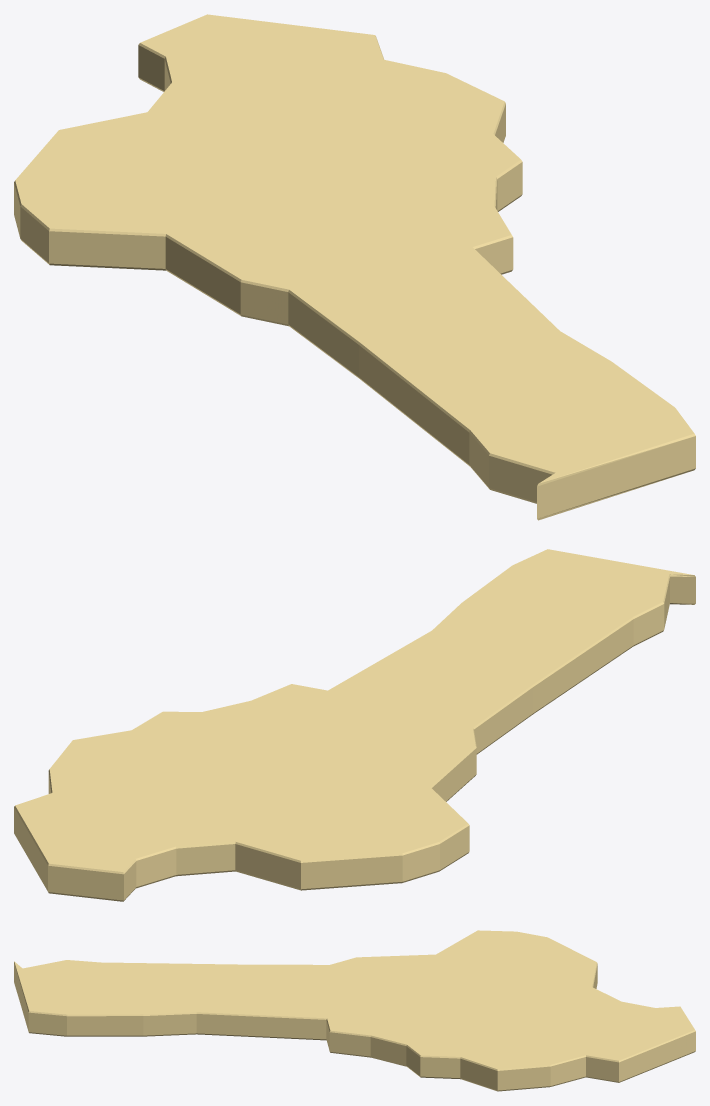
The model's file is BEN.glb.
3 renders of one model, top to bottom at view 1: azimuth 30°, elevation 25°; view 2: azimuth 150°, elevation 25°; view 3: azimuth 270°, elevation 25°, orthographic. The views are drawn at different scales.
Size of the model in its own units: 0.9183 by 0.068 by 1.9.
